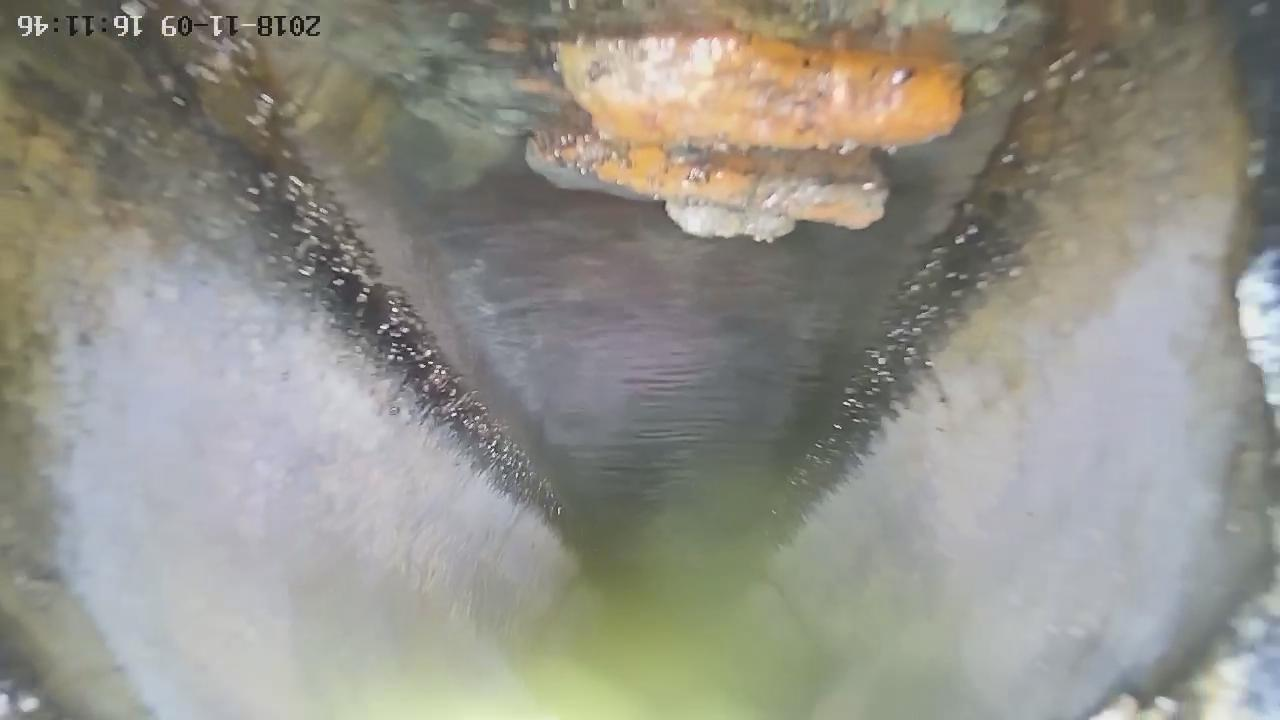ZAW: (526, 34, 962, 241)
